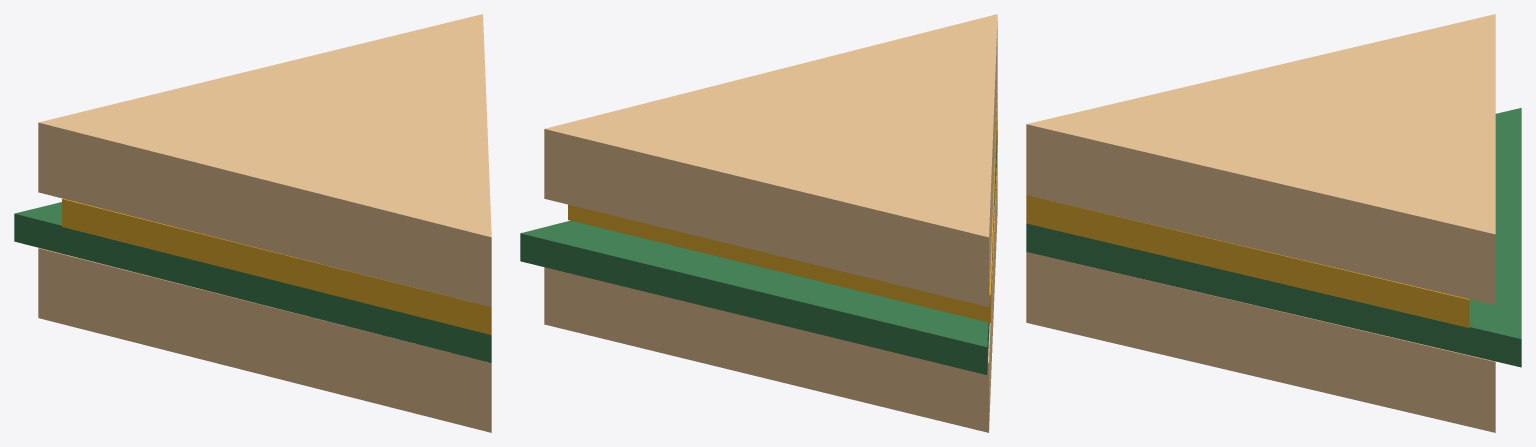
File: food_sandwich.glb
The picture shows the model from 3 angles, left to right: view 1: azimuth 30°, elevation 25°; view 2: azimuth 150°, elevation 25°; view 3: azimuth 270°, elevation 25°; orthographic projection.
Visible parts, largest first — view 1: food_sandwich_top, food_sandwich, food_sandwich_leaf, food_sandwich_cheese; view 2: food_sandwich_top, food_sandwich, food_sandwich_leaf, food_sandwich_cheese; view 3: food_sandwich_top, food_sandwich, food_sandwich_leaf, food_sandwich_cheese.
Boxes of the visible parts, x1,y1,x2,y2 form: food_sandwich_top: (38, 14, 491, 306); food_sandwich: (38, 248, 491, 432); food_sandwich_leaf: (14, 202, 491, 362); food_sandwich_cheese: (62, 198, 491, 334); food_sandwich_top: (544, 14, 997, 307); food_sandwich: (544, 146, 997, 432); food_sandwich_leaf: (520, 120, 997, 374); food_sandwich_cheese: (568, 91, 997, 322); food_sandwich_top: (1026, 14, 1495, 305); food_sandwich: (1026, 252, 1495, 432); food_sandwich_leaf: (1026, 108, 1521, 367); food_sandwich_cheese: (1026, 195, 1469, 327).
Bounding box in the file's own units: 0.21 × 0.084 × 0.19.
